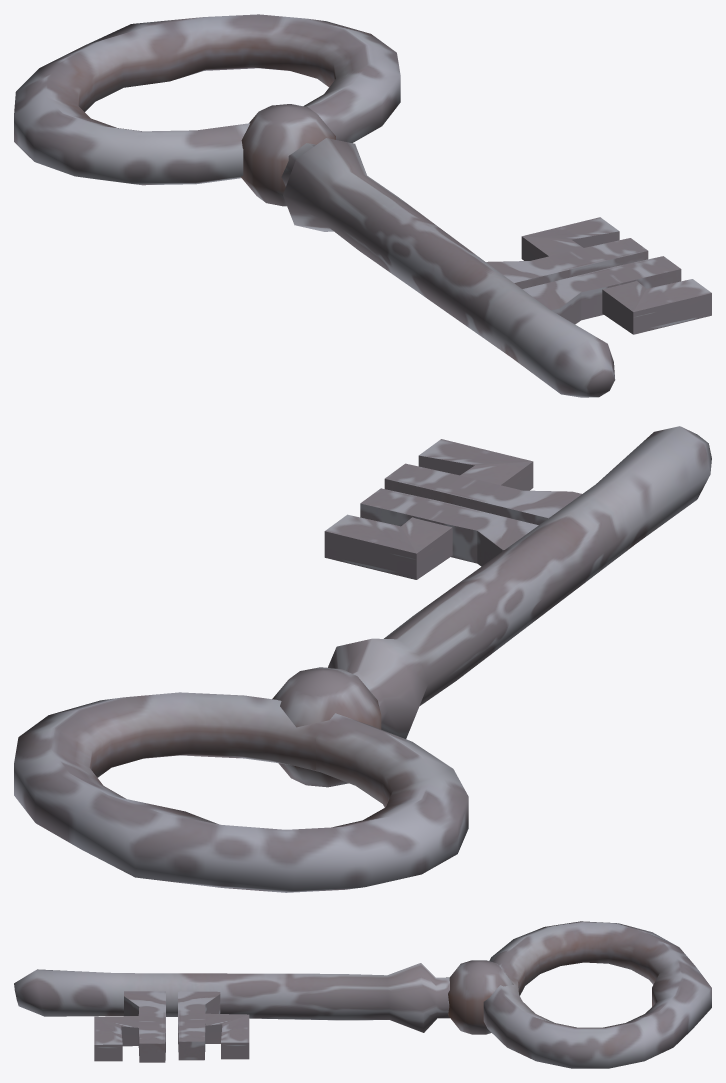
Rendered from key_metal.gltf.
3 views of the same model, one above another, from view 1: azimuth 30°, elevation 25°; view 2: azimuth 150°, elevation 25°; view 3: azimuth 270°, elevation 25° (orthographic). The views are drawn at different scales.
Parts seen in each view (by area): view 1: Key_Metal; view 2: Key_Metal; view 3: Key_Metal.
Boxes of the visible parts, bbox=[...] form: Key_Metal: bbox=[14, 14, 711, 397]; Key_Metal: bbox=[14, 426, 711, 892]; Key_Metal: bbox=[14, 921, 711, 1068].
Bounding box in the file's own units: 0.048 × 0.0124 × 0.111.
Materials: 1 (1 with a texture image).
